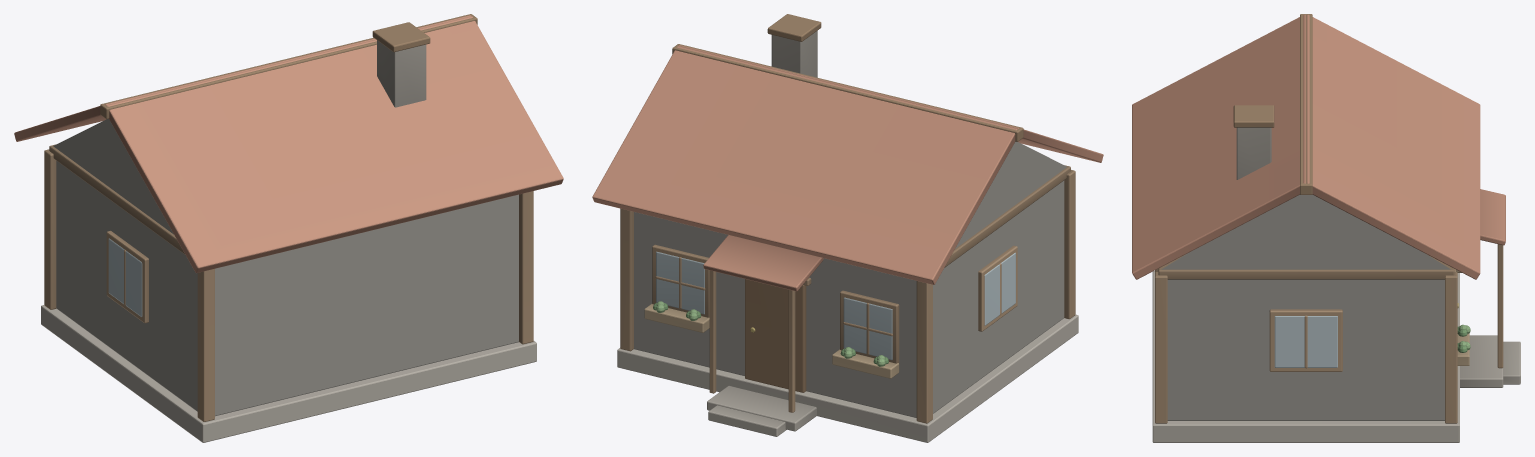
File: home_house__red.glb
The picture shows the model from 3 angles, left to right: view 1: azimuth 30°, elevation 25°; view 2: azimuth 150°, elevation 25°; view 3: azimuth 270°, elevation 25°; orthographic projection. The views are drawn at different scales.
Bounding box in the file's own units: 7 × 5.59 × 6.7.
